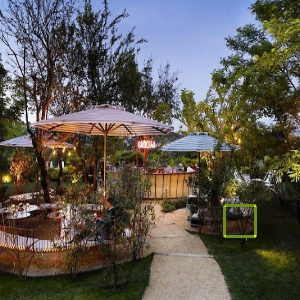square: (221, 202, 260, 240)
